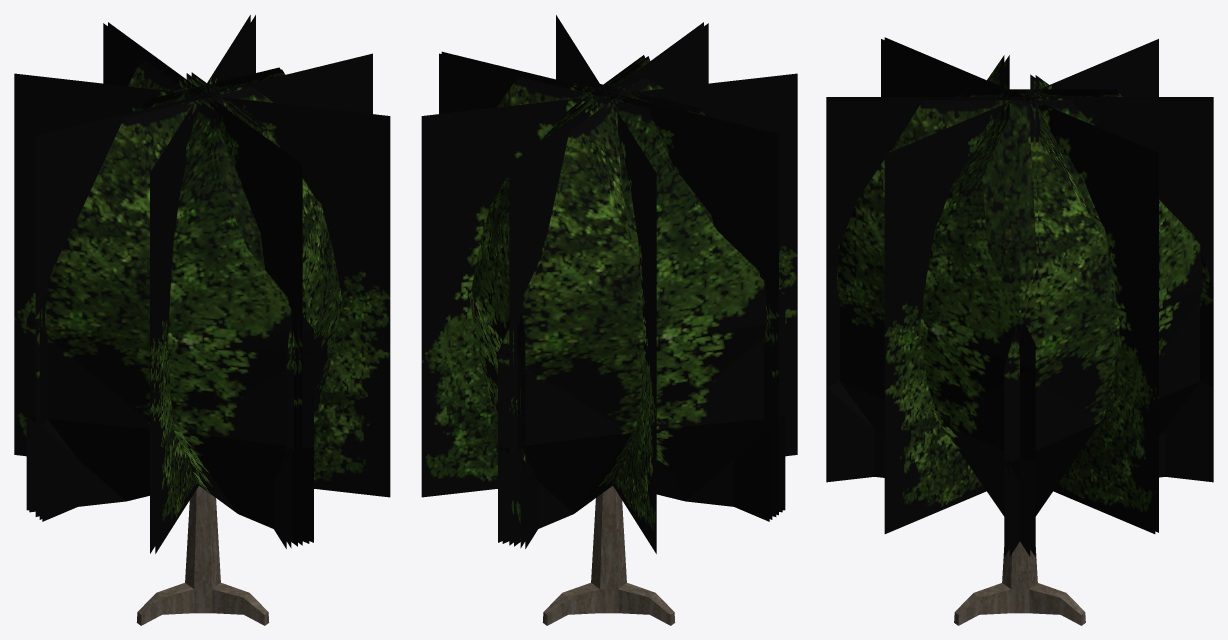
File: tree04.gltf
3 views of the same model, side by side, from view 1: azimuth 30°, elevation 25°; view 2: azimuth 150°, elevation 25°; view 3: azimuth 270°, elevation 25° (orthographic).
Parts seen in each view (by area): view 1: tree04_top, tree04; view 2: tree04_top, tree04; view 3: tree04_top, tree04.
Part boxes in pixels (x1,y1,x2,y2): tree04_top: [14, 15, 390, 553]; tree04: [136, 486, 269, 625]; tree04_top: [421, 15, 797, 553]; tree04: [542, 486, 675, 625]; tree04_top: [826, 37, 1213, 556]; tree04: [954, 542, 1085, 625].
Size of the model in its own units: 2.96 by 4.32 by 2.96.
1 material, 1 textured.
